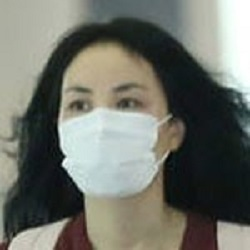mask: (55, 103, 170, 200)
